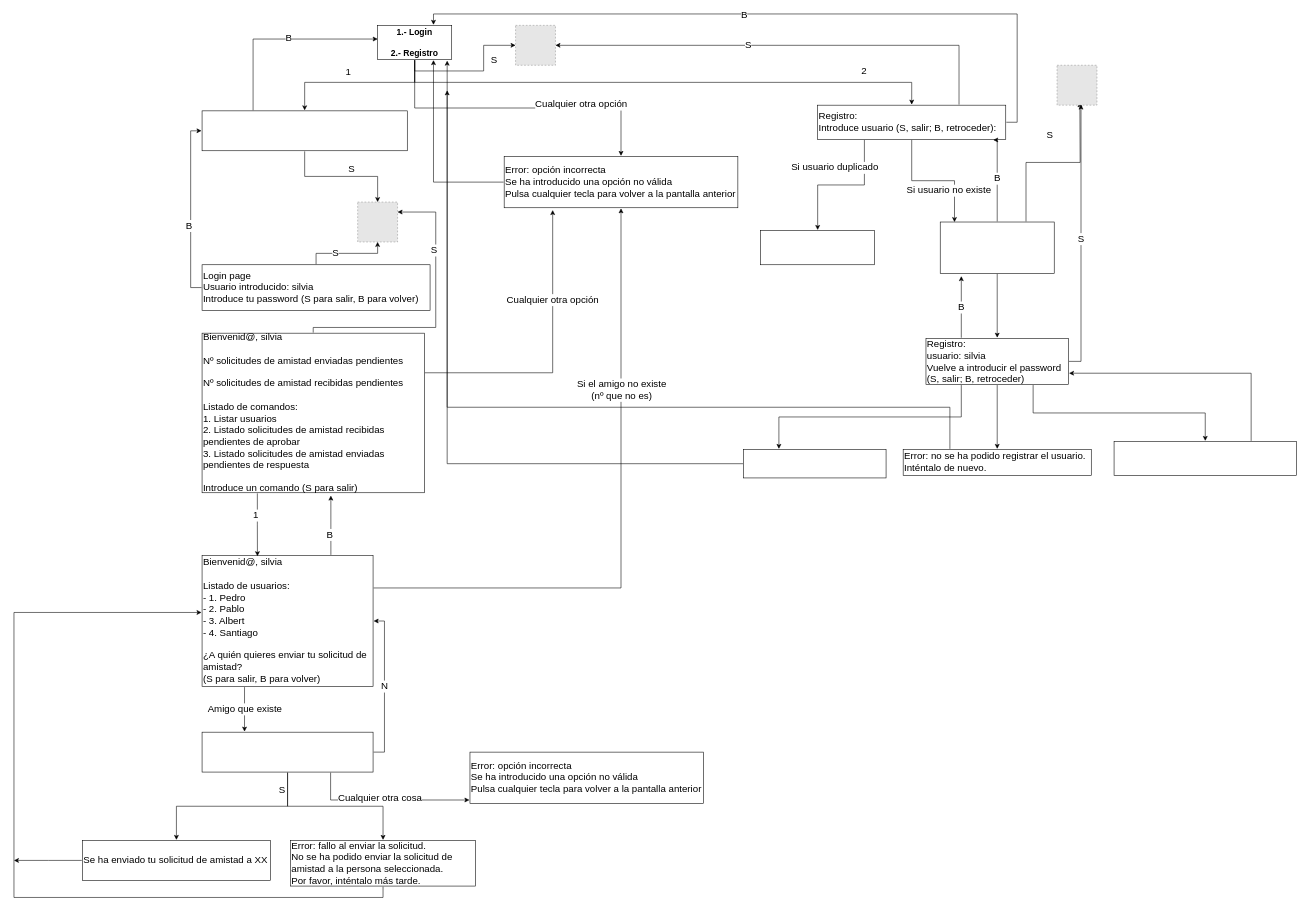
Some shapes in this 1306 by 912 pixel diagram are drawn without their labels. Grey dashed boxes stand in for pictures. Each missing label, with the box of its shape:
Error: el password no coincide Por favor, vuelve a introducir el password: (1113, 441, 1296, 476)
Error: usuario ya existe. Introduce otro usuario: (760, 230, 875, 265)
Login page Introduce tu usuario (S para salir, B para volver): (201, 110, 407, 151)
Registro: usuario: silvia Introduce password: (S, salir; B, retroceder): (940, 221, 1054, 273)
Te has registrado correctamente (S, salir; B, retroceder): (743, 449, 886, 478)
¿Estás seguro de que quieres ser amigo de XX? (S/N): (201, 732, 373, 772)
